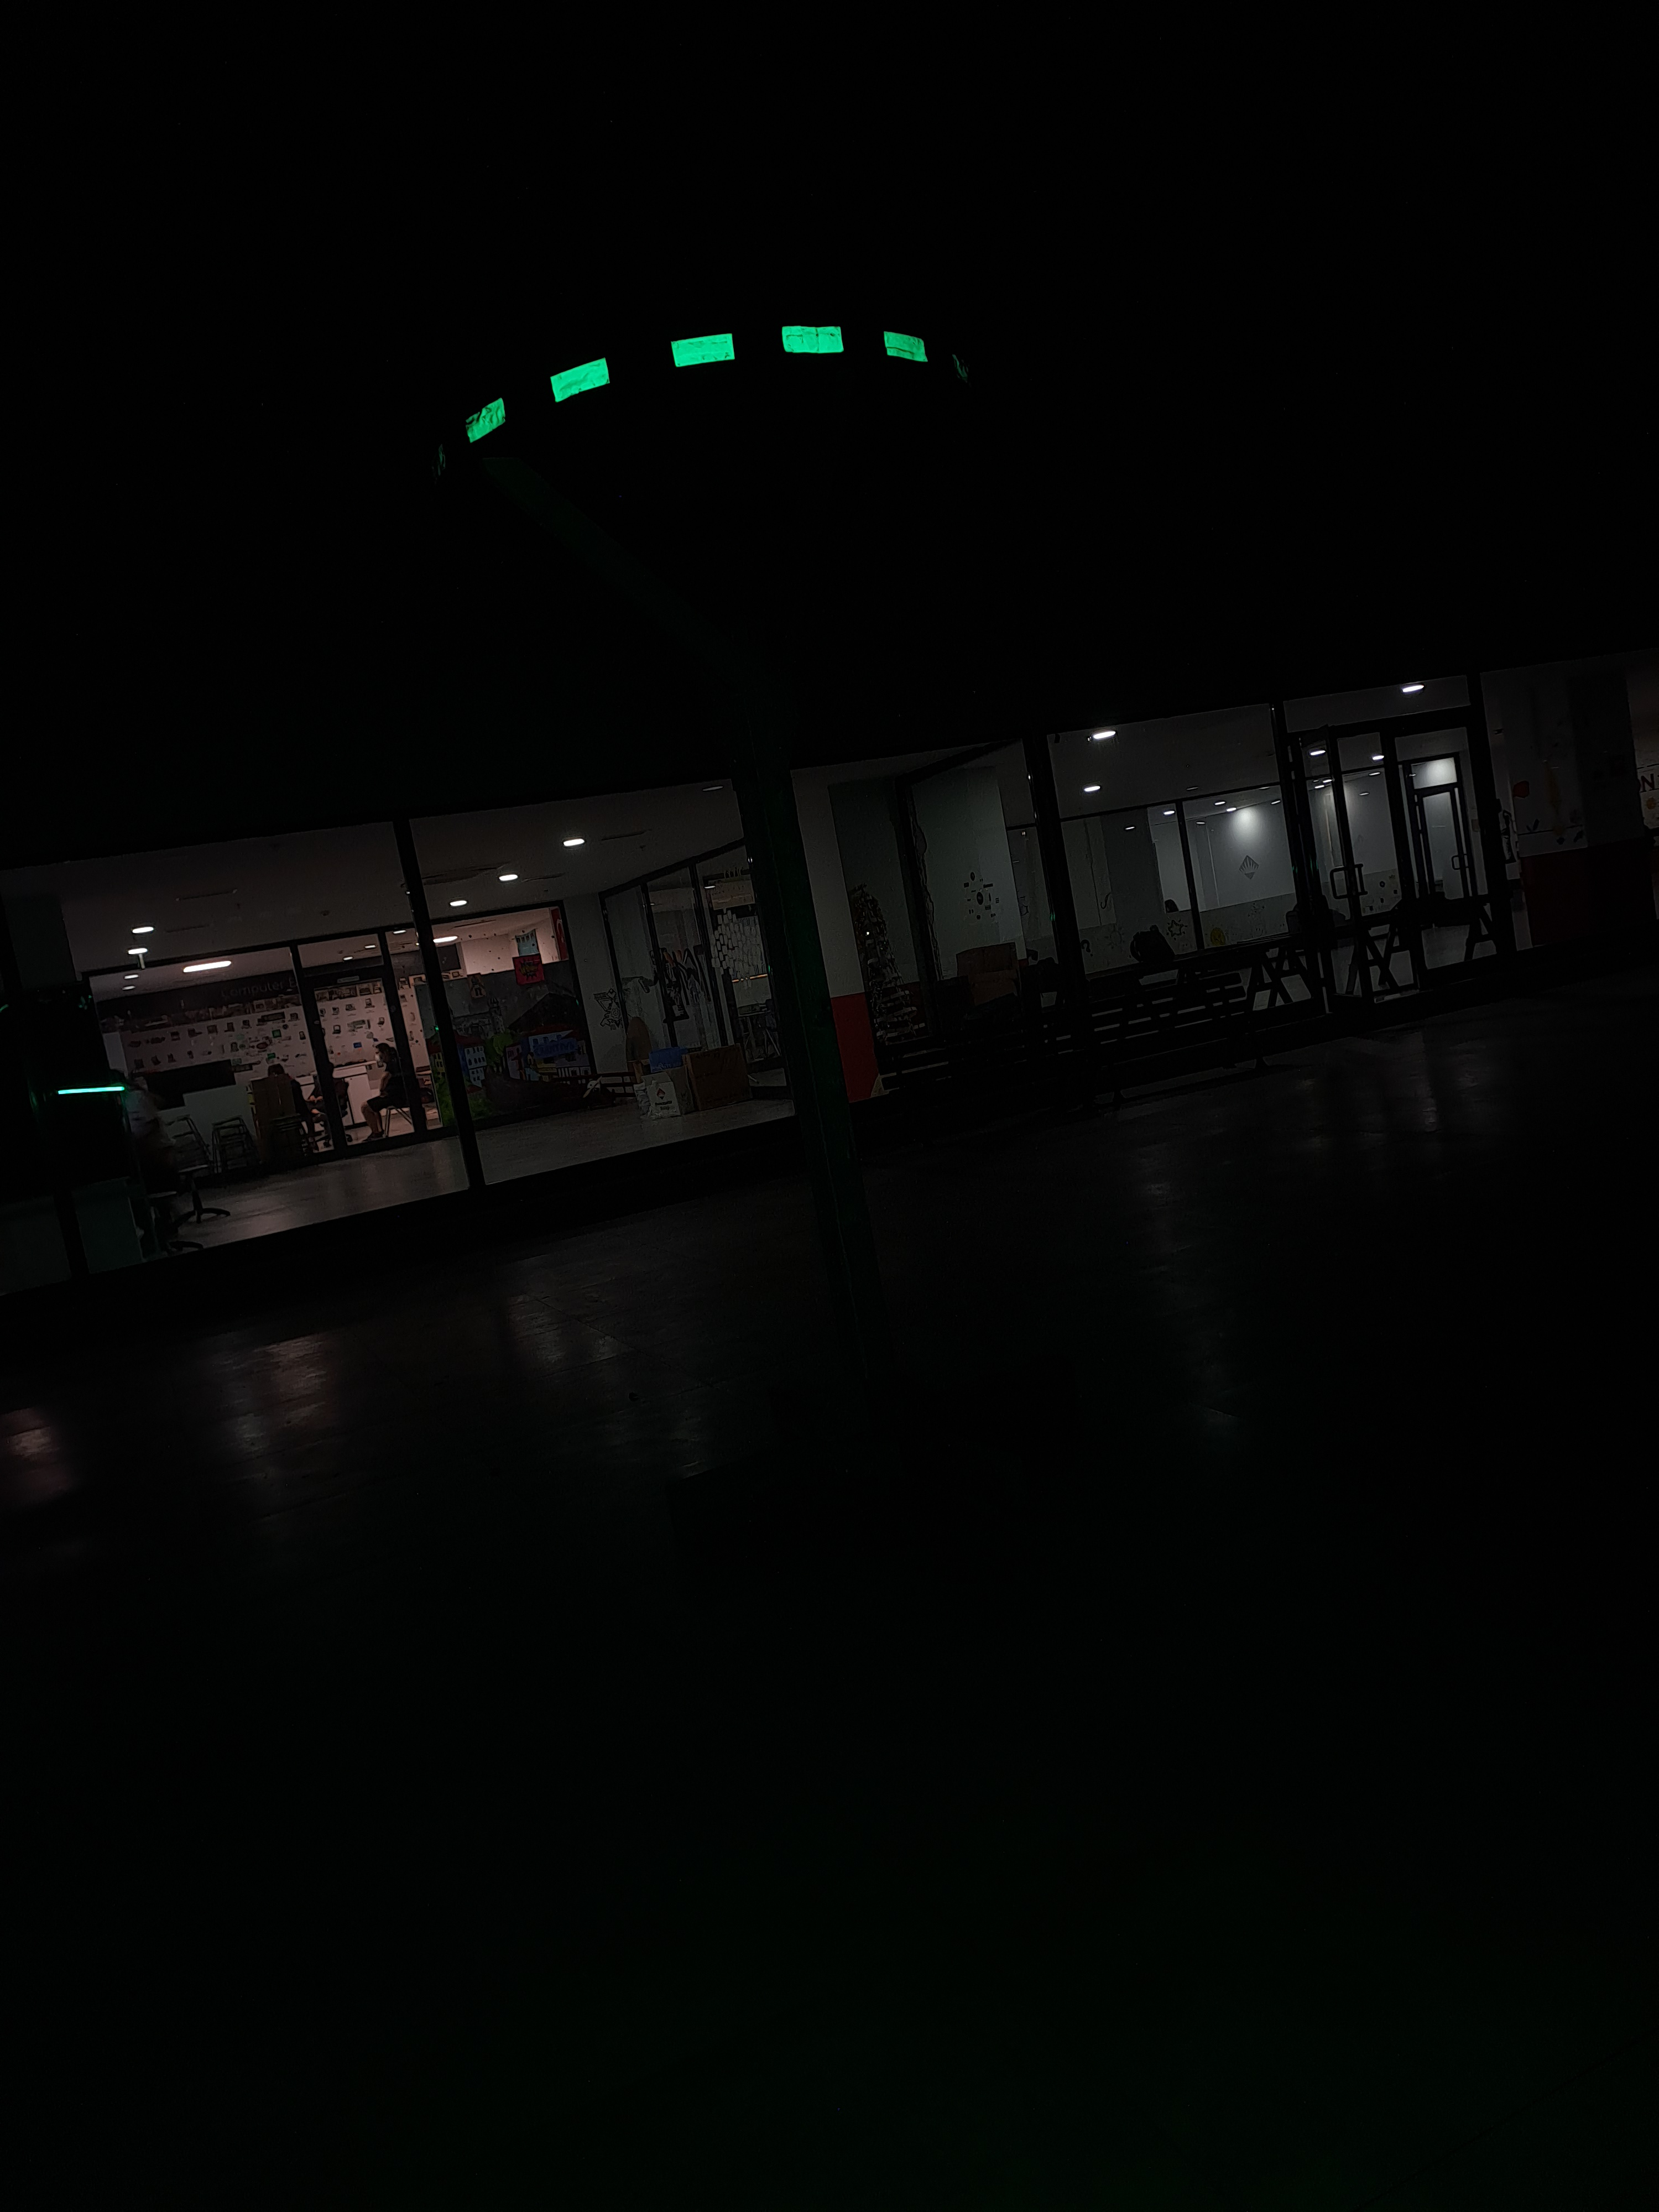hoop: (455, 312, 938, 448)
